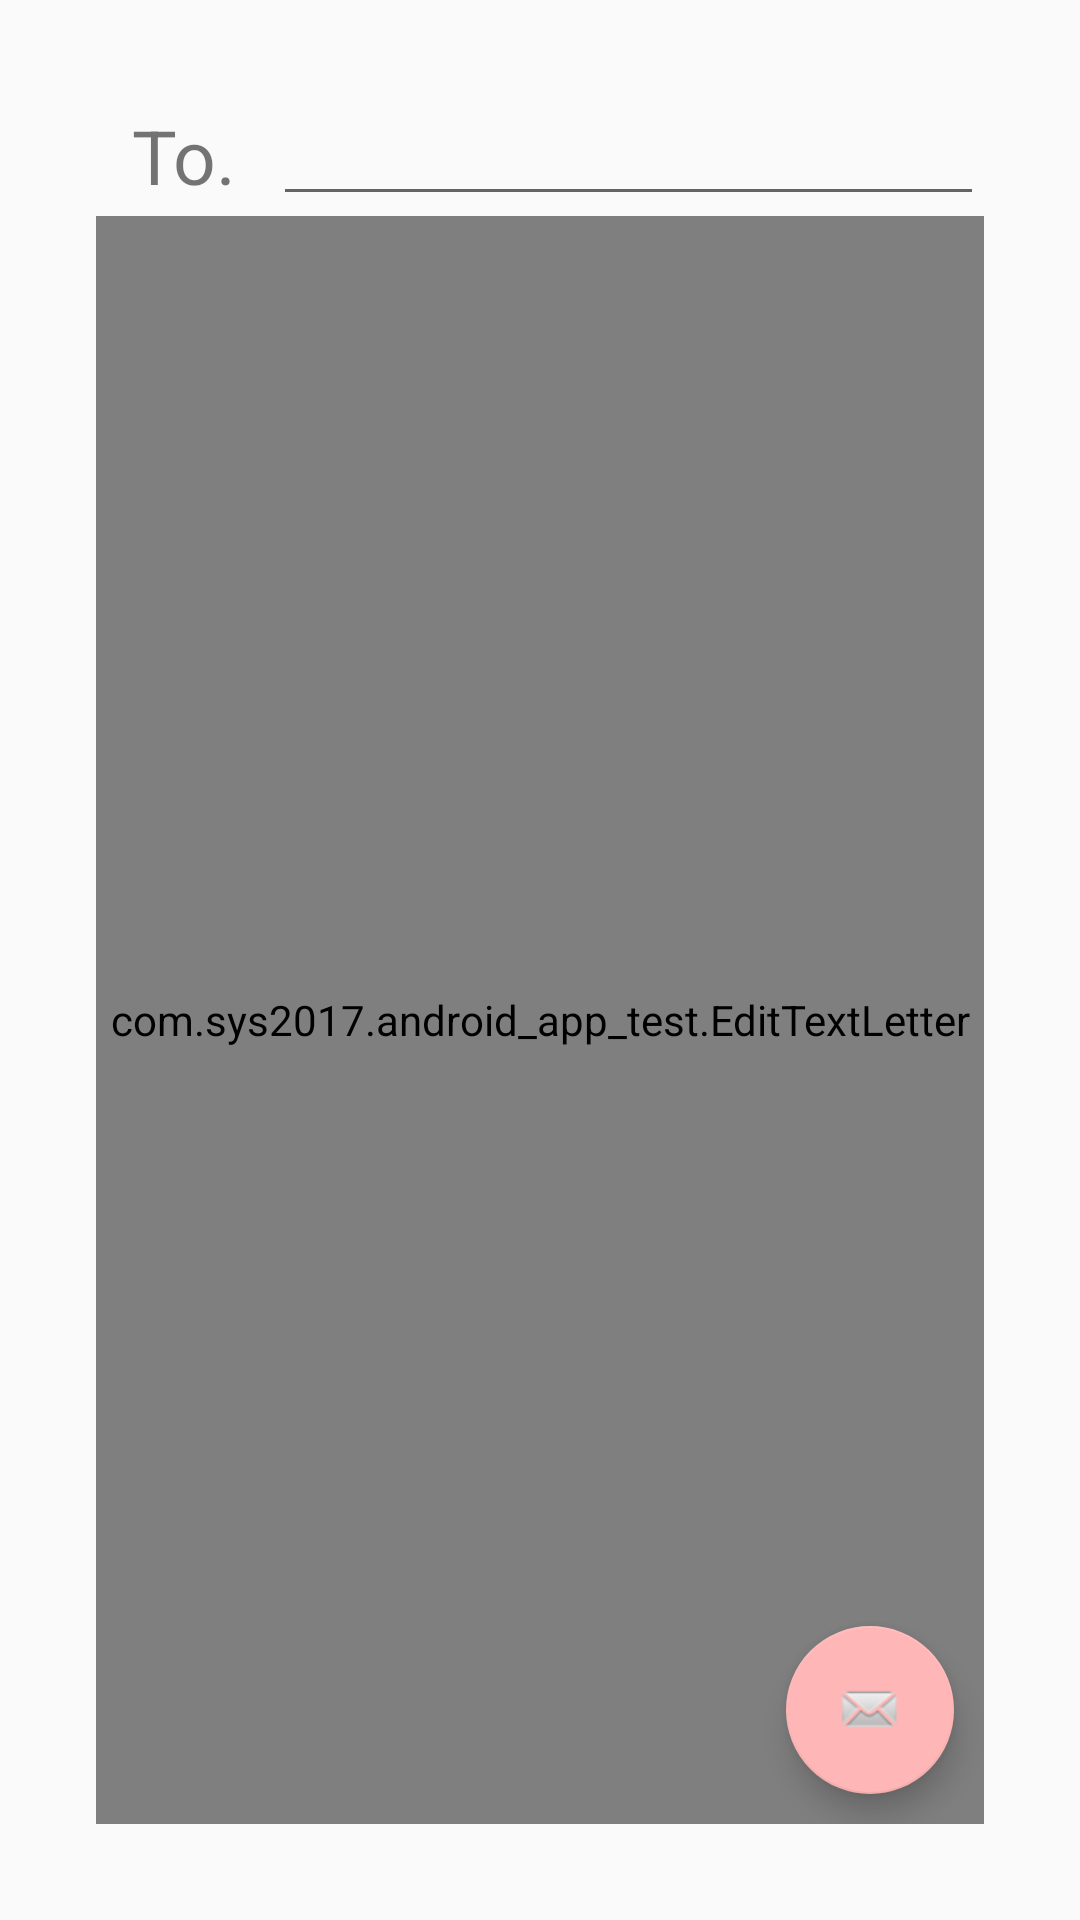

Screen size 1080px×1920px. Icon name, then its box in pixels as (x1, y1, x2, y2):
sym action email: (786, 1626, 954, 1794)
